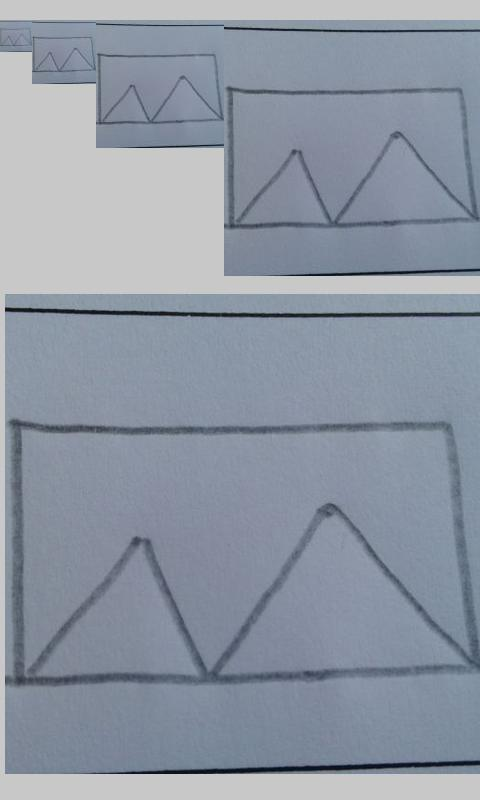image_view: (12, 419, 478, 687), (225, 85, 479, 229), (97, 51, 222, 126), (32, 36, 95, 73), (1, 27, 31, 47)
